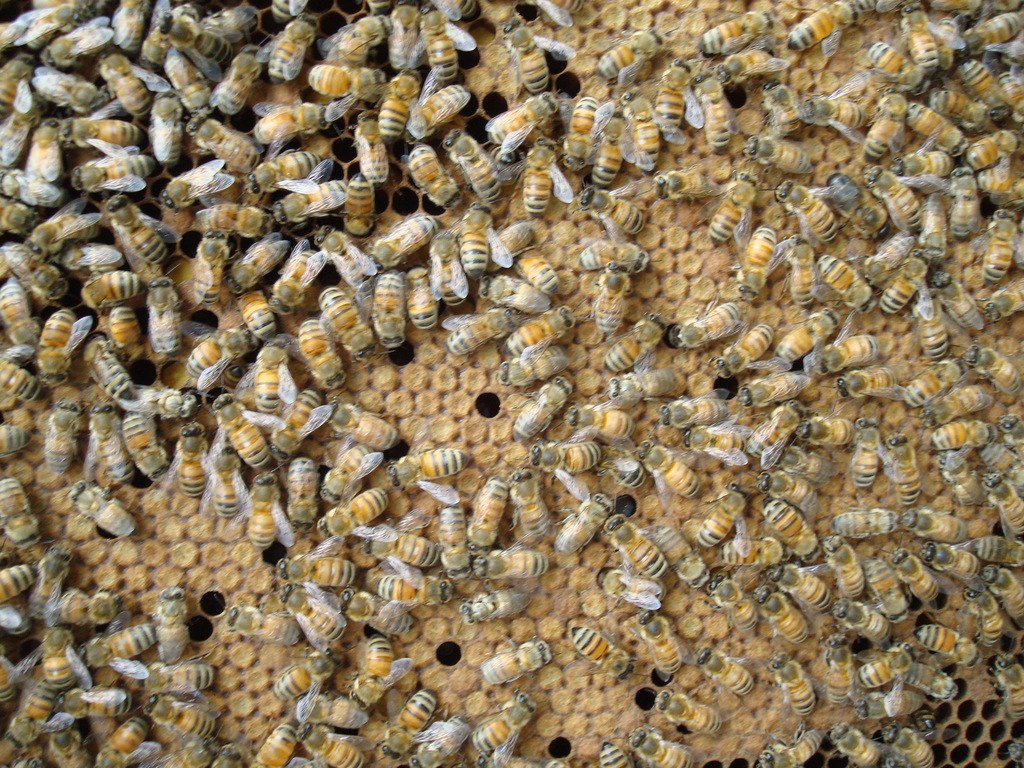bee: (0, 0, 1023, 767), (0, 0, 525, 540), (207, 502, 582, 767), (0, 511, 257, 767), (478, 85, 564, 156), (601, 509, 678, 588), (676, 68, 748, 150), (749, 487, 833, 556), (497, 370, 576, 441), (565, 167, 647, 235), (582, 11, 657, 85), (544, 399, 642, 454), (600, 293, 666, 370), (962, 333, 1023, 412), (549, 497, 623, 560), (740, 356, 834, 405), (822, 243, 881, 319), (692, 6, 773, 61), (523, 416, 605, 470), (817, 633, 876, 705), (726, 229, 788, 297), (631, 597, 692, 666), (772, 173, 838, 236), (710, 170, 772, 237), (745, 399, 815, 458), (627, 97, 680, 172), (597, 557, 662, 618), (689, 637, 756, 696), (908, 95, 966, 163), (644, 63, 700, 133), (770, 548, 840, 604), (589, 106, 639, 183), (692, 492, 756, 552), (932, 265, 983, 340), (755, 724, 843, 767), (790, 0, 861, 52), (954, 52, 1008, 120), (664, 298, 737, 348), (516, 147, 573, 211), (655, 157, 732, 204), (721, 520, 799, 566), (855, 93, 906, 163), (561, 89, 605, 170), (565, 237, 653, 277), (746, 138, 815, 189), (650, 690, 728, 735), (855, 642, 932, 687), (503, 337, 575, 385), (707, 575, 766, 633), (638, 435, 700, 490), (477, 276, 556, 319), (929, 74, 993, 127), (678, 416, 753, 461), (717, 35, 803, 74), (762, 76, 814, 140), (753, 646, 808, 705), (859, 227, 915, 284), (885, 424, 925, 503), (893, 504, 961, 550), (851, 415, 895, 486), (617, 725, 691, 767), (568, 630, 637, 675), (975, 566, 1023, 630), (925, 412, 998, 454), (932, 378, 998, 424), (900, 356, 966, 401), (869, 42, 932, 89), (758, 584, 808, 643), (773, 312, 828, 364), (899, 547, 948, 605), (717, 328, 783, 371), (797, 100, 865, 141), (840, 359, 909, 399), (956, 582, 1000, 644), (979, 152, 1023, 214), (827, 601, 893, 642), (943, 168, 979, 243), (760, 462, 817, 509), (916, 291, 952, 365), (863, 557, 905, 620), (896, 138, 959, 180), (896, 658, 959, 700), (663, 527, 709, 584), (877, 173, 921, 232), (983, 205, 1015, 285), (504, 317, 569, 355), (908, 4, 943, 74), (964, 534, 1023, 575), (596, 256, 630, 326), (975, 441, 1023, 489), (986, 474, 1023, 536), (881, 271, 929, 317), (962, 18, 1023, 54), (819, 335, 885, 368), (663, 396, 737, 425), (908, 544, 973, 577), (916, 622, 972, 660), (835, 167, 869, 229), (623, 356, 678, 394), (585, 456, 638, 495), (518, 252, 563, 297), (834, 724, 883, 764), (793, 243, 822, 310), (995, 655, 1023, 723), (889, 727, 936, 767), (983, 272, 1023, 319), (833, 516, 900, 544), (926, 196, 952, 256), (782, 444, 827, 478), (807, 411, 843, 451), (1000, 65, 1023, 118), (1005, 415, 1023, 446)
insect: (0, 3, 1023, 767)
